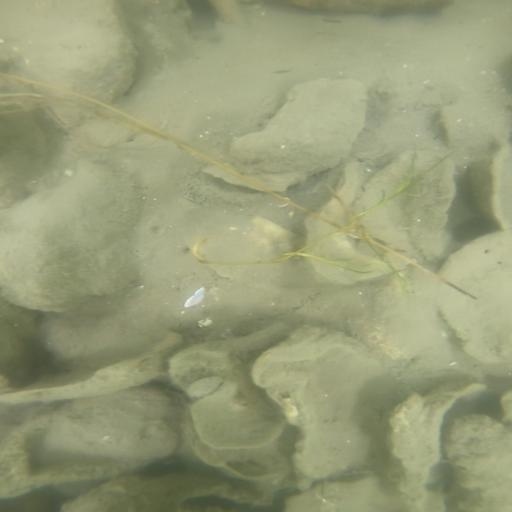Oyster-Closed: (247, 324, 389, 482), (1, 163, 143, 313), (202, 74, 369, 194), (18, 2, 137, 135), (170, 320, 302, 408), (41, 387, 186, 460), (448, 416, 512, 512)
